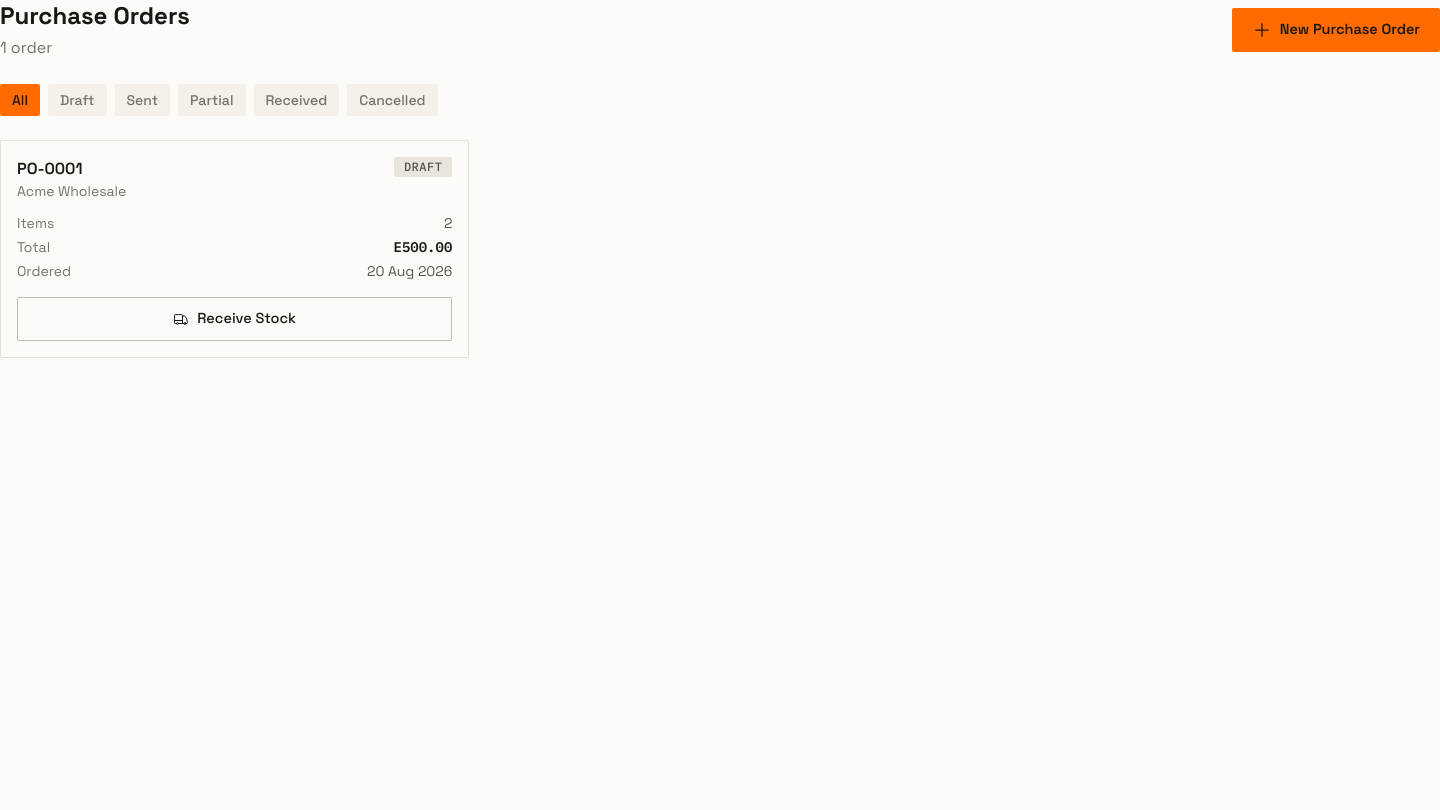
PurchaseOrders — accounts payable › hides the payable panel for a PO that has not been received
Click the heading "PO-0001". click: (50, 168)
box: [17,158,83,179]
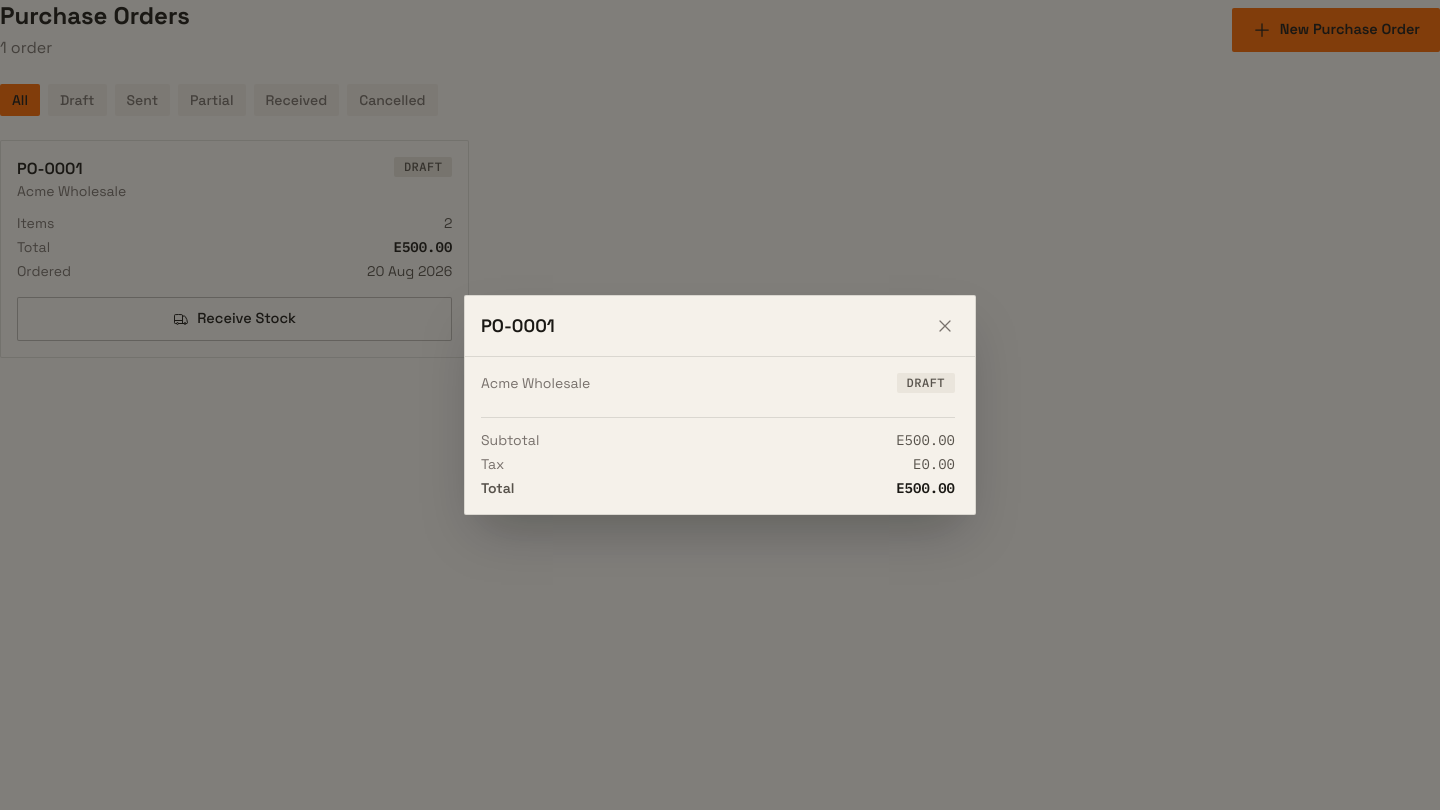
Check: the text "Acme Wholesale" is shown 2 times, box [17,181,126,201]; [481,373,590,393]
